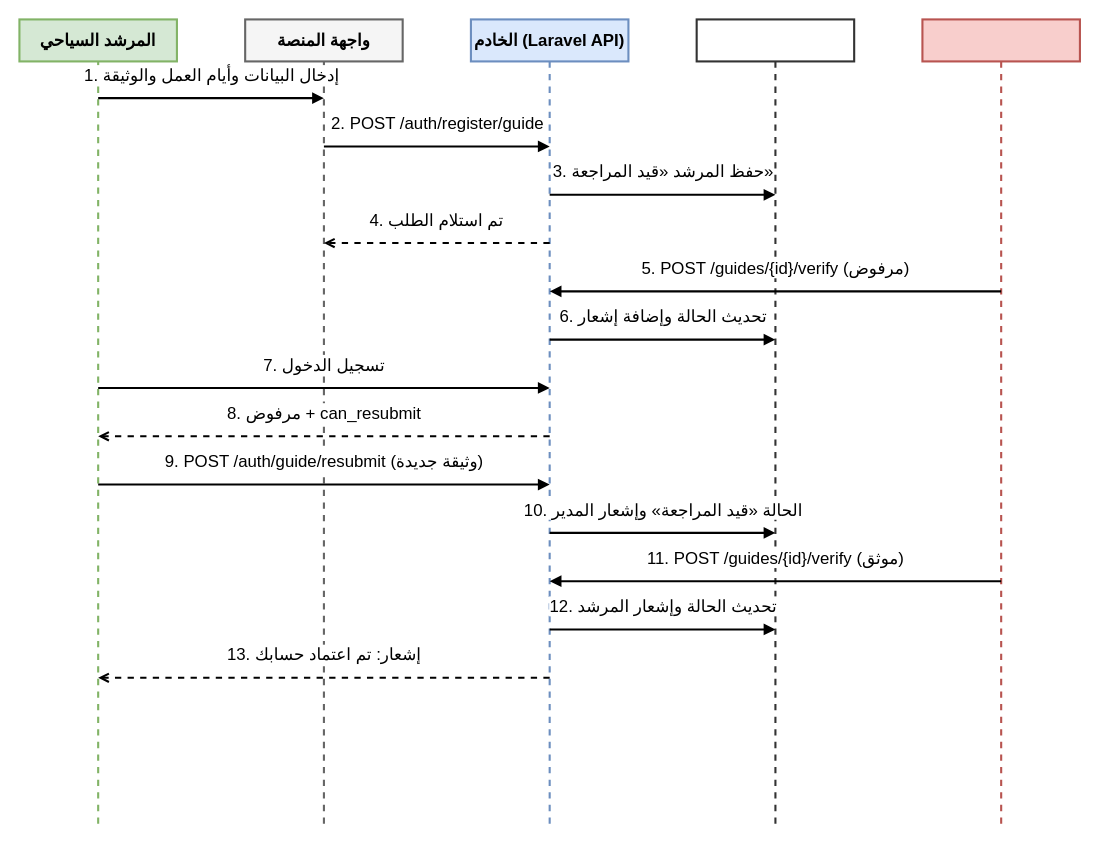
Some shapes in this 1098 by 846 pixel diagram are drawn without their labels. The box of each missing label's shape, as (x1, y1, x2, y2) in pixels:
قاعدة البيانات: (695, 18, 855, 828)
مدير النظام: (921, 18, 1080, 828)
